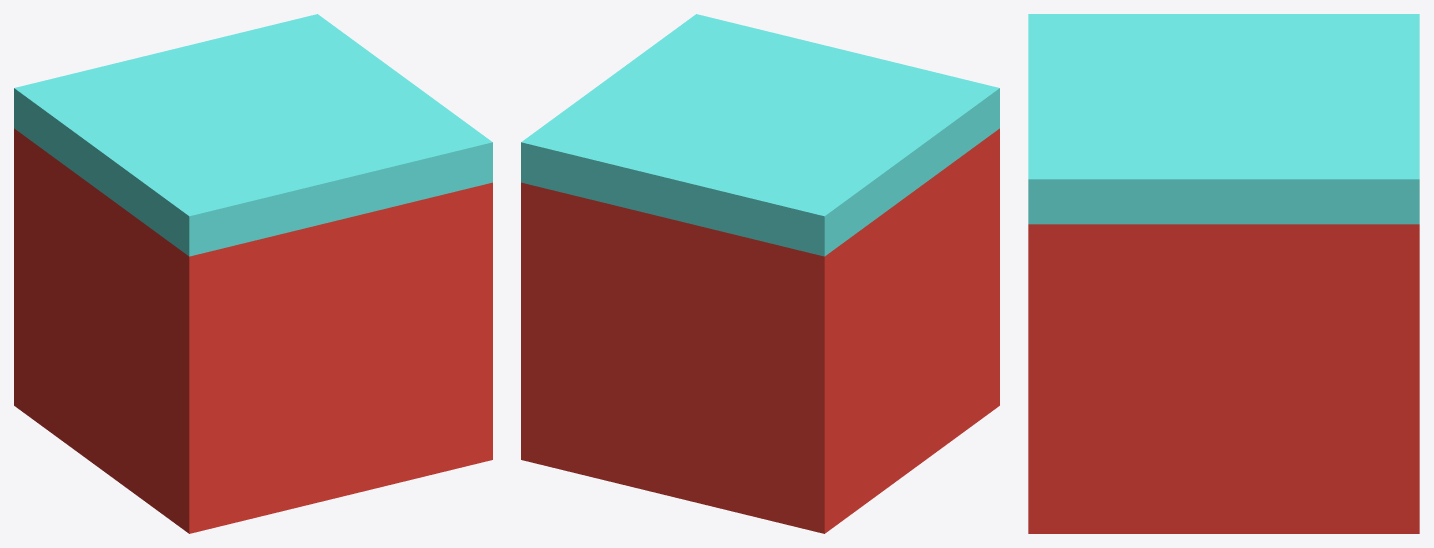
The model's file is enemy.obj.
3 renders of one model, left to right at view 1: azimuth 30°, elevation 25°; view 2: azimuth 150°, elevation 25°; view 3: azimuth 270°, elevation 25°, orthographic. The views are drawn at different scales.
Parts seen in each view (by area): view 1: Cube; view 2: Cube; view 3: Cube.
Boxes of the visible parts, x1,y1,x2,y2 form: Cube: (14,14,492,533); Cube: (521,14,999,533); Cube: (1028,14,1419,533).
Size of the model in its own units: 2 by 2 by 2.
Materials: 1 (1 with a texture image).
